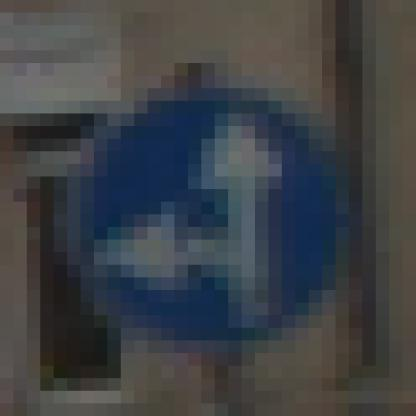Straight or Left: (81, 77, 350, 341)
